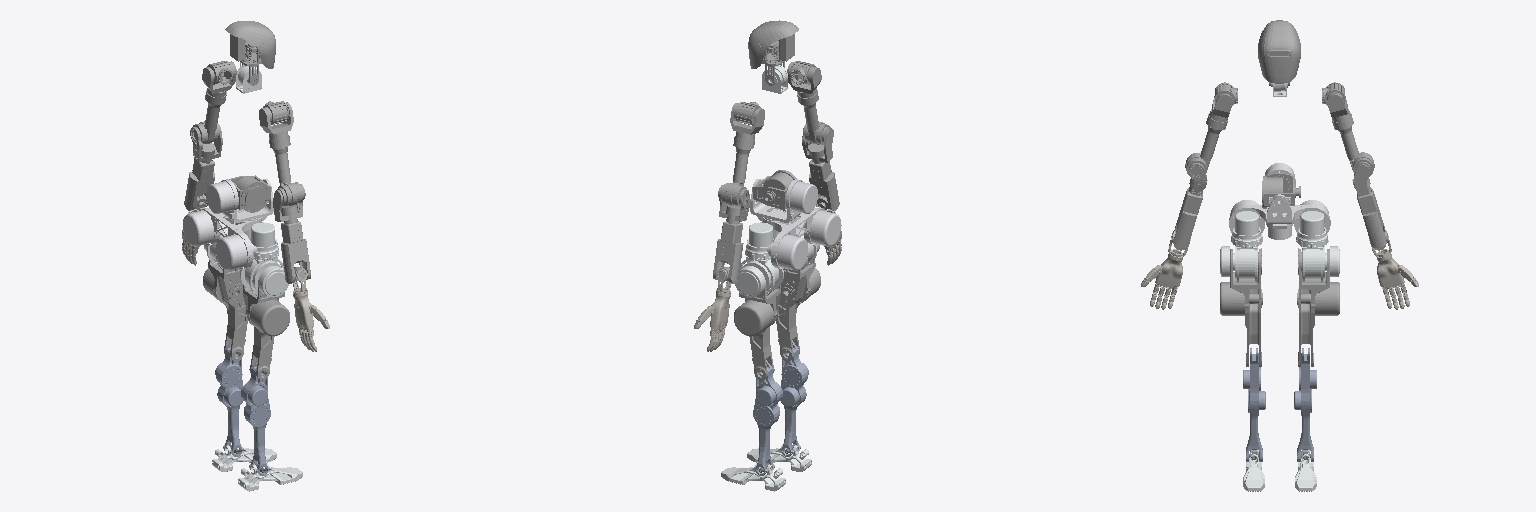
--- What the picture shows (computed from the rendered views, not written in the file) ---
Views: 3 orthographic renders of the robot side by side, from view 1: azimuth 30°, elevation 25°; view 2: azimuth 150°, elevation 25°; view 3: azimuth 270°, elevation 25°.
Robot: loong — 32 links, 31 joints (12 revolute, 19 fixed); root link base_link; default pose: all joints at 0.
Visible links, largest first — view 1: Link_waist_yaw, Link_hip_r_pitch, Link_hip_l_pitch, Link_head_pitch, Link_knee_r_pitch, Link_knee_l_pitch, Link_waist_roll, Link_hip_r_yaw, Link_arm_r_05, Link_arm_r_07, Link_waist_pitch, Link_arm_l_05 (+9 smaller); view 2: Link_waist_yaw, Link_hip_l_pitch, Link_hip_r_pitch, Link_head_pitch, Link_knee_l_pitch, Link_knee_r_pitch, Link_waist_roll, Link_hip_l_yaw, Link_arm_l_07, Link_arm_l_05, Link_waist_pitch, Link_ankle_l_roll (+9 smaller); view 3: Link_head_pitch, Link_hip_r_pitch, Link_hip_l_pitch, Link_waist_yaw, Link_arm_r_07, Link_arm_l_07, Link_knee_r_pitch, Link_knee_l_pitch, Link_hip_l_yaw, Link_hip_r_yaw, Link_arm_r_05, Link_arm_l_05 (+10 smaller).
Boxes of the visible links, box(x1,y1,x2,y2) form: Link_waist_yaw: box(183, 208, 266, 270); Link_hip_r_pitch: box(243, 285, 289, 380); Link_hip_l_pitch: box(203, 258, 247, 361); Link_head_pitch: box(225, 21, 275, 85); Link_knee_r_pitch: box(241, 358, 271, 475); Link_knee_l_pitch: box(215, 339, 245, 456); Link_waist_roll: box(206, 179, 273, 222); Link_hip_r_yaw: box(240, 256, 288, 297); Link_arm_r_05: box(281, 221, 310, 283); Link_arm_r_07: box(293, 269, 329, 351); Link_waist_pitch: box(229, 175, 270, 212); Link_arm_l_05: box(184, 158, 214, 210); Link_waist_yaw: box(757, 208, 841, 270); Link_hip_l_pitch: box(734, 285, 780, 380); Link_hip_r_pitch: box(776, 258, 820, 361); Link_head_pitch: box(748, 20, 798, 85); Link_knee_l_pitch: box(752, 358, 782, 475); Link_knee_r_pitch: box(778, 339, 808, 456); Link_waist_roll: box(750, 179, 817, 222); Link_hip_l_yaw: box(735, 256, 783, 297); Link_arm_l_07: box(694, 269, 730, 351); Link_arm_l_05: box(713, 221, 743, 283); Link_waist_pitch: box(753, 170, 796, 209); Link_ankle_l_roll: box(721, 462, 785, 491); Link_head_pitch: box(1258, 20, 1300, 85); Link_hip_r_pitch: box(1220, 248, 1262, 366); Link_hip_l_pitch: box(1297, 248, 1339, 366); Link_waist_yaw: box(1229, 200, 1330, 239); Link_arm_r_07: box(1141, 231, 1190, 309); Link_arm_l_07: box(1369, 231, 1418, 309); Link_knee_r_pitch: box(1243, 348, 1265, 461); Link_knee_l_pitch: box(1294, 348, 1316, 461); Link_hip_l_yaw: box(1302, 245, 1339, 282); Link_hip_r_yaw: box(1220, 246, 1257, 282); Link_arm_r_05: box(1173, 188, 1202, 250); Link_arm_l_05: box(1357, 188, 1386, 250).
Size in the robot's own frame: 0.3374 by 1.02 by 1.82 metres.
31 mesh visuals loaded from 32 distinct referenced files (31 binary STL); not drawn: 1 (reference not matched to a file when rendering).

URDF robot description (loong):
<?xml version="1.0" encoding="utf-8"?>

<robot name="loong">
  <mujoco>
    <compiler meshdir="package://loong_description/meshes/" balanceinertia="true" discardvisual="false" />
  </mujoco>
  <link name="base_link">
    <inertial>
      <origin xyz="-0.0056641 -0.0013367 0.23829" rpy="0 0 0" />
      <mass value="22.447" />
      <inertia ixx="0.3742" ixy="0" ixz="0" iyy="0.27691" iyz="0" izz="0.22104" />
    </inertial>
    <visual>
      <origin xyz="0 0 0" rpy="0 0 0" />
      <geometry>
        <mesh filename="package://loong_description/meshes/base_link.STL" />
      </geometry>
      <material name="">
        <color rgba="0.75294 0.75294 0.75294 1" />
      </material>
    </visual>
    <collision>
      <origin xyz="0 0 0" rpy="0 0 0" />
      <geometry>
        <mesh filename="package://loong_description/meshes/base_link.STL" />
      </geometry>
    </collision>
  </link>
  <link name="Link_head_yaw">
    <inertial>
      <origin xyz="4.6974E-12 -0.0020814 0.044801" rpy="0 0 0" />
      <mass value="0.84249" />
      <inertia ixx="0.000629" ixy="-1.2848E-14" ixz="1.5461E-10" iyy="0.0007003" iyz="6.5E-06" izz="0.0005541" />
    </inertial>
    <visual>
      <origin xyz="0 0 0" rpy="0 0 0" />
      <geometry>
        <mesh filename="package://loong_description/meshes/Link_head_yaw.STL" />
      </geometry>
      <material name="">
        <color rgba="0.89804 0.91765 0.92941 1" />
      </material>
    </visual>
    <!-- <collision>
      <origin xyz="0 0 0" rpy="0 0 0" />
      <geometry>
        <mesh filename="package://loong_description/meshes/Link_head_yaw.STL" />
      </geometry>
    </collision> -->
  </link>
  <joint name="J_head_yaw" type="fixed">
    <origin xyz="0.009 0 0.4064" rpy="0 0 0" />
    <parent link="base_link" />
    <child link="Link_head_yaw" />
    <axis xyz="0 0 1" />
    <limit lower="-1.5708" upper="1.5708" effort="26" velocity="109.8" />
  </joint>
  <link name="Link_head_pitch">
    <inertial>
      <origin xyz="0.020569 0.033004 0.125" rpy="0 0 0" />
      <mass value="1.3943" />
      <inertia ixx="0.0060059" ixy="-9.4E-06" ixz="0.0007564" iyy="0.00629" iyz="-1.03E-05" izz="0.0048569" />
    </inertial>
    <visual>
      <origin xyz="0 0 0" rpy="0 0 0" />
      <geometry>
        <mesh filename="package://loong_description/meshes/Link_head_pitch.STL" />
      </geometry>
      <material name="">
        <color rgba="0.69804 0.69804 0.69804 1" />
      </material>
    </visual>
    <!-- <collision>
      <origin xyz="0 0 0" rpy="0 0 0" />
      <geometry>
        <mesh filename="package://loong_description/meshes/Link_head_pitch.STL" />
      </geometry>
    </collision> -->
  </link>
  <joint name="J_head_pitch" type="fixed">
    <origin xyz="0 -0.0345999999999997 0.0484999999999999" rpy="0 0 0" />
    <parent link="Link_head_yaw" />
    <child link="Link_head_pitch" />
    <axis xyz="0 -1 0" />
    <limit lower="-0.7854" upper="0.7854" effort="26" velocity="109.8" />
  </joint>
  <link name="Link_arm_r_01">
    <inertial>
      <origin xyz="0.0044946 -0.038294 -1.8744E-06" rpy="0 0 0" />
      <mass value="0.75641" />
      <inertia ixx="0.00058712" ixy="2.9803E-07" ixz="5.8378E-09" iyy="0.00080305" iyz="-3.6648E-08" izz="0.00084299" />
    </inertial>
    <visual>
      <origin xyz="0 0 0" rpy="0 0 0" />
      <geometry>
        <mesh filename="package://loong_description/meshes/Link_arm_r_01.STL" />
      </geometry>
      <material name="">
        <color rgba="0.69804 0.69804 0.69804 1" />
      </material>
    </visual>
    <!-- <collision>
      <origin xyz="0 0 0" rpy="0 0 0" />
      <geometry>
        <mesh filename="package://loong_description/meshes/Link_arm_r_01.STL" />
      </geometry>
    </collision> -->
  </link>
  <joint name="J_arm_r_01" type="fixed">
    <origin xyz="0.004 -0.1616 0.3922" rpy="0 0 0" />
    <parent link="base_link" />
    <child link="Link_arm_r_01" />
    <axis xyz="0 -1 0" />
    <limit lower="-2.96706" upper="2.96706" effort="80" velocity="3.14" />
  </joint>
  <link name="Link_arm_r_02">
    <inertial>
      <origin xyz="0.042 -0.0674307499121858 -6.93889390390723E-18" rpy="0 0 0" />
      <mass value="0.984999996273518" />
      <inertia ixx="0.0017309882399251" ixy="-9.79515256436727E-20" ixz="-3.63988309726277E-19" iyy="0.00115401958000568" iyz="4.42134220053852E-19" izz="0.00226269324370836" />
    </inertial>
    <visual>
      <origin xyz="0 0 0" rpy="0 0 0" />
      <geometry>
        <mesh filename="package://loong_description/meshes/Link_arm_r_02.STL" />
      </geometry>
      <material name="">
        <color rgba="0.698039215686274 0.698039215686274 0.698039215686274 1" />
      </material>
    </visual>
    <!-- <collision>
      <origin xyz="0 0 0" rpy="0 0 0" />
      <geometry>
        <mesh filename="package://loong_description/meshes/Link_arm_r_02.STL" />
      </geometry>
    </collision> -->
  </link>
  <joint name="J_arm_r_02" type="fixed">
    <origin xyz="-0.042 -0.041 0" rpy="1.3 0 0" />
    <parent link="Link_arm_r_01" />
    <child link="Link_arm_r_02" />
    <axis xyz="-1 0 0" />
    <limit lower="-1.83260" upper="1.83260" effort="80" velocity="3.14" />
  </joint>
  <link name="Link_arm_r_03">
    <inertial>
      <origin xyz="-0.00141357502419955 -0.164662742175383 0.0207578924800774" rpy="0 0 0" />
      <mass value="0.958999855228924" />
      <inertia ixx="0.00206438134078715" ixy="1.82014067823509E-05" ixz="-5.1283136963991E-06" iyy="0.00080535412926664" iyz="-0.000255265992194607" izz="0.00205099914609259" />
    </inertial>
    <visual>
      <origin xyz="0 0 0" rpy="0 0 0" />
      <geometry>
        <mesh filename="package://loong_description/meshes/Link_arm_r_03.STL" />
      </geometry>
      <material name="">
        <color rgba="0.698039215686274 0.698039215686274 0.698039215686274 1" />
      </material>
    </visual>
    <!-- <collision>
      <origin xyz="0 0 0" rpy="0 0 0" />
      <geometry>
        <mesh filename="package://loong_description/meshes/Link_arm_r_03.STL" />
      </geometry>
    </collision> -->
  </link>
  <joint name="J_arm_r_03" type="fixed">
    <origin xyz="0.042 -0.1226 0" rpy="0 0 0" />
    <parent link="Link_arm_r_02" />
    <child link="Link_arm_r_03" />
    <axis xyz="0 -1 0" />
    <limit lower="-2.96706" upper="2.96706" effort="48" velocity="3.14" />
  </joint>
  <link name="Link_arm_r_04">
    <inertial>
      <origin xyz="-0.038727 -0.060767 -0.021003" rpy="0 0 0" />
      <mass value="0.6" />
      <inertia ixx="0.00070398" ixy="-2.023E-05" ixz="-1.1263E-05" iyy="0.00068085" iyz="0.00010585" izz="0.0010653" />
    </inertial>
    <visual>
      <origin xyz="0 0 0" rpy="0 0 0" />
      <geometry>
        <mesh filename="package://loong_description/meshes/Link_arm_r_04.STL" />
      </geometry>
      <material name="">
        <color rgba="0.69804 0.69804 0.69804 1" />
      </material>
    </visual>
    <!-- <collision>
      <origin xyz="0 0 0" rpy="0 0 0" />
      <geometry>
        <mesh filename="package://loong_description/meshes/Link_arm_r_04.STL" />
      </geometry>
    </collision> -->
  </link>
  <joint name="J_arm_r_04" type="fixed">
    <origin xyz="0.0353 -0.1774 0.024" rpy="0 0 0" />
    <parent link="Link_arm_r_03" />
    <child link="Link_arm_r_04" />
    <axis xyz="-1 0 0" />
    <limit lower="0" upper="2.96706" effort="48" velocity="3.14" />
  </joint>
  <link name="Link_arm_r_05">
    <inertial>
      <origin xyz="3.2712E-05 -0.068658 -0.00011178" rpy="0 0 0" />
      <mass value="0.68976" />
      <inertia ixx="0.0025225" ixy="4E-07" ixz="-8E-07" iyy="0.0004487" iyz="-3.1E-06" izz="0.0024111" />
    </inertial>
    <visual>
      <origin xyz="0 0 0" rpy="0 0 0" />
      <geometry>
        <mesh filename="package://loong_description/meshes/Link_arm_r_05.STL" />
      </geometry>
      <material name="">
        <color rgba="0.69804 0.69804 0.69804 1" />
      </material>
    </visual>
    <!-- <collision>
      <origin xyz="0 0 0" rpy="0 0 0" />
      <geometry>
        <mesh filename="package://loong_description/meshes/Link_arm_r_05.STL" />
      </geometry>
    </collision> -->
  </link>
  <joint name="J_arm_r_05" type="fixed">
    <origin xyz="-0.0353 -0.1035 -0.024" rpy="0 0 0" />
    <parent link="Link_arm_r_04" />
    <child link="Link_arm_r_05" />
    <axis xyz="0 -1 0" />
    <limit lower="-2.96706" upper="2.96706" effort="12.4" velocity="6.28" />
  </joint>
  <link name="Link_arm_r_06">
    <inertial>
      <origin xyz="0.026078 -8.9588E-07 0.0016637" rpy="0 0 0" />
      <mass value="0.28" />
      <inertia ixx="0.0001456" ixy="7.7026E-10" ixz="2.1456E-07" iyy="0.00015693" iyz="2.4102E-09" izz="0.00010498" />
    </inertial>
    <visual>
      <origin xyz="0 0 0" rpy="0 0 0" />
      <geometry>
        <mesh filename="package://loong_description/meshes/Link_arm_r_06.STL" />
      </geometry>
      <material name="">
        <color rgba="0.69804 0.69804 0.69804 1" />
      </material>
    </visual>
    <!-- <collision>
      <origin xyz="0 0 0" rpy="0 0 0" />
      <geometry>
        <mesh filename="package://loong_description/meshes/Link_arm_r_06.STL" />
      </geometry>
    </collision> -->
  </link>
  <joint name="J_arm_r_06" type="fixed">
    <origin xyz="-0.0265 -0.1965 0" rpy="0 0 0" />
    <parent link="Link_arm_r_05" />
    <child link="Link_arm_r_06" />
    <axis xyz="1 0 0" />
    <limit lower="-1.8326" upper="1.8326" effort="12.4" velocity="6.28" />
  </joint>
  <link name="Link_arm_r_07">
    <inertial>
      <origin xyz="-0.007859 -0.15817 -0.027736" rpy="0 0 0" />
      <mass value="0.61354" />
      <inertia ixx="0.0025969" ixy="-4.65E-05" ixz="0.0001089" iyy="0.0007306" iyz="1.47E-05" izz="0.0030104" />
    </inertial>
    <visual>
      <origin xyz="0 0 0" rpy="0 0 0" />
      <geometry>
        <mesh filename="package://loong_description/meshes/Link_arm_r_07.STL" />
      </geometry>
      <material name="">
        <color rgba="0.77647 0.75686 0.73725 1" />
      </material>
    </visual>
    <!-- <collision>
      <origin xyz="0 0 0" rpy="0 0 0" />
      <geometry>
        <mesh filename="package://loong_description/meshes/Link_arm_r_07.STL" />
      </geometry>
    </collision> -->
  </link>
  <joint name="J_arm_r_07" type="fixed">
    <origin xyz="0.0265 0 0.0318" rpy="0 0 0" />
    <parent link="Link_arm_r_06" />
    <child link="Link_arm_r_07" />
    <axis xyz="0 0 1" />
    <limit lower="-1.04720" upper="1.04720" effort="12.4" velocity="6.28" />
  </joint>
  <link name="Link_arm_l_01">
    <inertial>
      <origin xyz="-0.00449464987882542 0.0382942125981936 -1.874402432607E-06" rpy="0 0 0" />
      <mass value="0.756406339732892" />
      <inertia ixx="0.000587115683146372" ixy="2.98026052651538E-07" ixz="-5.83781087215966E-09" iyy="0.000803052813361661" iyz="3.66476835396106E-08" izz="0.000842985653484675" />
    </inertial>
    <visual>
      <origin xyz="0 0 0" rpy="0 0 0" />
      <geometry>
        <mesh filename="package://loong_description/meshes/Link_arm_l_01.STL" />
      </geometry>
      <material name="">
        <color rgba="0.698039215686274 0.698039215686274 0.698039215686274 1" />
      </material>
    </visual>
    <!-- <collision>
      <origin xyz="0 0 0" rpy="0 0 0" />
      <geometry>
        <mesh filename="package://loong_description/meshes/Link_arm_l_01.STL" />
      </geometry>
    </collision> -->
  </link>
  <joint name="J_arm_l_01" type="fixed">
    <origin xyz="0.004 0.1616 0.3922" rpy="0 0 0" />
    <parent link="base_link" />
    <child link="Link_arm_l_01" />
    <axis xyz="0 1 0" />
    <limit lower="-2.96706" upper="2.96706" effort="80" velocity="3.14" />
  </joint>
  <link name="Link_arm_l_02">
    <inertial>
      <origin xyz="-0.042 0.0674307499121858 1.38777878078145E-17" rpy="0 0 0" />
      <mass value="0.984999996273518" />
      <inertia ixx="0.0017309882399251" ixy="-1.48322871384691E-19" ixz="-1.94588987195478E-19" iyy="0.00115401958000568" iyz="-6.15989345249147E-19" izz="0.00226269324370836" />
    </inertial>
    <visual>
      <origin xyz="0 0 0" rpy="0 0 0" />
      <geometry>
        <mesh filename="package://loong_description/meshes/Link_arm_l_02.STL" />
      </geometry>
      <material name="">
        <color rgba="0.698039215686274 0.698039215686274 0.698039215686274 1" />
      </material>
    </visual>
    <!-- <collision>
      <origin xyz="0 0 0" rpy="0 0 0" />
      <geometry>
        <mesh filename="package://loong_description/meshes/Link_arm_l_02.STL" />
      </geometry>
    </collision> -->
  </link>
  <joint name="J_arm_l_02" type="fixed">
    <origin xyz="0.042 0.041 0" rpy="-1.3 0 0" />
    <parent link="Link_arm_l_01" />
    <child link="Link_arm_l_02" />
    <axis xyz="-1 0 0" />
    <limit lower="-1.83260" upper="1.83260" effort="80" velocity="3.14" />
  </joint>
  <link name="Link_arm_l_03">
    <inertial>
      <origin xyz="0.00141357502419956 0.164662742175383 0.0207578924800774" rpy="0 0 0" />
      <mass value="0.958999855228925" />
      <inertia ixx="0.00206438134078715" ixy="1.82014067823508E-05" ixz="5.12831369639908E-06" iyy="0.000805354129266641" iyz="0.000255265992194607" izz="0.00205099914609259" />
    </inertial>
    <visual>
      <origin xyz="0 0 0" rpy="0 0 0" />
      <geometry>
        <mesh filename="package://loong_description/meshes/Link_arm_l_03.STL" />
      </geometry>
      <material name="">
        <color rgba="0.698039215686274 0.698039215686274 0.698039215686274 1" />
      </material>
    </visual>
    <!-- <collision>
      <origin xyz="0 0 0" rpy="0 0 0" />
      <geometry>
        <mesh filename="package://loong_description/meshes/Link_arm_l_03.STL" />
      </geometry>
    </collision> -->
  </link>
  <joint name="J_arm_l_03" type="fixed">
    <origin xyz="-0.042 0.1226 0" rpy="0 0 0" />
    <parent link="Link_arm_l_02" />
    <child link="Link_arm_l_03" />
    <axis xyz="0 1 0" />
    <limit lower="-2.96706" upper="2.96706" effort="48" velocity="3.14" />
  </joint>
  <link name="Link_arm_l_04">
    <inertial>
      <origin xyz="0.038726985904266 0.0607672244593032 -0.0210032450980798" rpy="0 0 0" />
      <mass value="0.60000012303258" />
      <inertia ixx="0.000703976141425558" ixy="-2.02301178076816E-05" ixz="1.12633779930363E-05" iyy="0.000680850033983237" iyz="-0.000105852227353173" izz="0.00106526266740194" />
    </inertial>
    <visual>
      <origin xyz="0 0 0" rpy="0 0 0" />
      <geometry>
        <mesh filename="package://loong_description/meshes/Link_arm_l_04.STL" />
      </geometry>
      <material name="">
        <color rgba="0.698039215686274 0.698039215686274 0.698039215686274 1" />
      </material>
    </visual>
    <!-- <collision>
      <origin xyz="0 0 0" rpy="0 0 0" />
      <geometry>
        <mesh filename="package://loong_description/meshes/Link_arm_l_04.STL" />
      </geometry>
    </collision> -->
  </link>
  <joint name="J_arm_l_04" type="fixed">
    <origin xyz="-0.0353 0.1774 0.024" rpy="0 0 0" />
    <parent link="Link_arm_l_03" />
    <child link="Link_arm_l_04" />
    <axis xyz="1 0 0" />
    <limit lower="0" upper="2.96706" effort="48" velocity="3.14" />
  </joint>
  <link name="Link_arm_l_05">
    <inertial>
      <origin xyz="-3.2712E-05 0.068658 -0.00011178" rpy="0 0 0" />
      <mass value="0.68976" />
      <inertia ixx="0.0025225" ixy="4E-07" ixz="8E-07" iyy="0.0004487" iyz="3.1E-06" izz="0.0024111" />
    </inertial>
    <visual>
      <origin xyz="0 0 0" rpy="0 0 0" />
      <geometry>
        <mesh filename="package://loong_description/meshes/Link_arm_l_05.STL" />
      </geometry>
      <material name="">
        <color rgba="0.69804 0.69804 0.69804 1" />
      </material>
    </visual>
    <!-- <collision>
      <origin xyz="0 0 0" rpy="0 0 0" />
      <geometry>
        <mesh filename="package://loong_description/meshes/Link_arm_l_05.STL" />
      </geometry>
    </collision> -->
  </link>
  <joint name="J_arm_l_05" type="fixed">
    <origin xyz="0.0353 0.1035 -0.024" rpy="0 0 0" />
    <parent link="Link_arm_l_04" />
    <child link="Link_arm_l_05" />
    <axis xyz="0 1 0" />
    <limit lower="-2.96706" upper="2.96706" effort="12.4" velocity="6.28" />
  </joint>
  <link name="Link_arm_l_06">
    <inertial>
      <origin xyz="-0.0260776548825596 8.95877202866657E-07 0.00166373234012217" rpy="0 0 0" />
      <mass value="0.280000012776158" />
      <inertia ixx="0.000145596926990102" ixy="7.70263046256849E-10" ixz="-2.14557176368931E-07" iyy="0.000156926535065694" iyz="-2.41022657678511E-09" izz="0.000104981940665913" />
    </inertial>
    <visual>
      <origin xyz="0 0 0" rpy="0 0 0" />
      <geometry>
        <mesh filename="package://loong_description/meshes/Link_arm_l_06.STL" />
      </geometry>
      <material name="">
        <color rgba="0.698039215686274 0.698039215686274 0.698039215686274 1" />
      </material>
    </visual>
    <!-- <collision>
      <origin xyz="0 0 0" rpy="0 0 0" />
      <geometry>
        <mesh filename="package://loong_description/meshes/Link_arm_l_06.STL" />
      </geometry>
    </collision> -->
  </link>
  <joint name="J_arm_l_06" type="fixed">
    <origin xyz="0.0265 0.1965 0" rpy="0 0 0" />
    <parent link="Link_arm_l_05" />
    <child link="Link_arm_l_06" />
    <axis xyz="-1 0 0" />
    <limit lower="-1.8326" upper="1.8326" effort="12.4" velocity="6.28" />
  </joint>
  <link name="Link_arm_l_07">
    <inertial>
      <origin xyz="-0.0077872 0.15705 -0.027733" rpy="0 0 0" />
      <mass value="0.61354" />
      <inertia ixx="0.0025964" ixy="4.66E-05" ixz="0.0001089" iyy="0.0007306" iyz="-1.47E-05" izz="0.00301" />
    </inertial>
    <visual>
      <origin xyz="0 0 0" rpy="0 0 0" />
      <geometry>
        <mesh filename="package://loong_description/meshes/Link_arm_l_07.STL" />
      </geometry>
      <material name="">
        <color rgba="0.77647 0.75686 0.73725 1" />
      </material>
    </visual>
    <!-- <collision>
      <origin xyz="0 0 0" rpy="0 0 0" />
      <geometry>
        <mesh filename="package://loong_description/meshes/Link_arm_l_07.STL" />
      </geometry>
    </collision> -->
  </link>
  <joint name="J_arm_l_07" type="fixed">
    <origin xyz="-0.0265 0 0.0318" rpy="0 0 0" />
    <parent link="Link_arm_l_06" />
    <child link="Link_arm_l_07" />
    <axis xyz="0 0 1" />
    <limit lower="-1.04720" upper="1.04720" effort="12.4" velocity="6.28" />
  </joint>
  <link name="Link_waist_pitch">
    <inertial>
      <origin xyz="-0.00073496 0.049925 -2.9695E-05" rpy="0 0 0" />
      <mass value="2.6964" />
      <inertia ixx="0.0051971" ixy="4.37E-05" ixz="-3E-07" iyy="0.0047413" iyz="-6E-06" izz="0.0061906" />
    </inertial>
    <visual>
      <origin xyz="0 0 0" rpy="0 0 0" />
      <geometry>
        <mesh filename="package://loong_description/meshes/Link_waist_pitch.STL" />
      </geometry>
      <material name="">
        <color rgba="0.69804 0.69804 0.69804 1" />
      </material>
    </visual>
    <!-- <collision>
      <origin xyz="0 0 0" rpy="0 0 0" />
      <geometry>
        <mesh filename="package://loong_description/meshes/Link_waist_pitch.STL" />
      </geometry>
    </collision> -->
  </link>
  <joint name="J_waist_pitch" type="fixed">
    <origin xyz="0 -0.0655 0" rpy="0 0 0" />
    <parent link="base_link" />
    <child link="Link_waist_pitch" />
    <axis xyz="0 -1 0" />
    <limit lower="-0.29671" upper="0.78540" effort="315" velocity="3.72" />
  </joint>
  <link name="Link_waist_roll">
    <inertial>
      <origin xyz="-0.0037424 -0.001 -0.016856" rpy="0 0 0" />
      <mass value="2.9806" />
      <inertia ixx="0.0071327" ixy="0" ixz="0.00358" iyy="0.018825" iyz="0" izz="0.016056" />
    </inertial>
    <visual>
      <origin xyz="0 0 0" rpy="0 0 0" />
      <geometry>
        <mesh filename="package://loong_description/meshes/Link_waist_roll.STL" />
      </geometry>
      <material name="">
        <color rgba="0.8902 0.8902 0.91373 1" />
      </material>
    </visual>
    <!-- <collision>
      <origin xyz="0 0 0" rpy="0 0 0" />
      <geometry>
        <mesh filename="package://loong_description/meshes/Link_waist_roll.STL" />
      </geometry>
    </collision> -->
  </link>
  <joint name="J_waist_roll" type="fixed">
    <origin xyz="-0.064 0.0655 0" rpy="0 0 0" />
    <parent link="Link_waist_pitch" />
    <child link="Link_waist_roll" />
    <axis xyz="1 0 0" />
    <limit lower="-0.69813" upper="0.69813" effort="315" velocity="3.72" />
  </joint>
  <link name="Link_waist_yaw">
    <inertial>
      <origin xyz="-0.096172 -0.001 -0.057836" rpy="0 0 0" />
      <mass value="7.3588" />
      <inertia ixx="0.091635" ixy="0" ixz="-0.0058036" iyy="0.032766" iyz="0" izz="0.10764" />
    </inertial>
    <visual>
      <origin xyz="0 0 0" rpy="0 0 0" />
      <geometry>
        <mesh filename="package://loong_description/meshes/Link_waist_yaw.STL" />
      </geometry>
      <material name="">
        <color rgba="0.8902 0.8902 0.91373 1" />
      </material>
    </visual>
    <!-- <collision>
      <origin xyz="0 0 0" rpy="0 0 0" />
      <geometry>
        <mesh filename="package://loong_description/meshes/Link_waist_yaw.STL" />
      </geometry>
    </collision> -->
  </link>
  <joint name="J_waist_yaw" type="fixed">
    <origin xyz="0.0675 0 -0.098" rpy="0 0 0" />
    <parent link="Link_waist_roll" />
    <child link="Link_waist_yaw" />
    <axis xyz="0 0 1" />
    <limit lower="-0.78540" upper="0.78540" effort="121" velocity="5.92" />
  </joint>
  <link name="Link_hip_r_roll">
    <inertial>
      <origin xyz="0.075725 -0.0010616 0.016591" rpy="0 0 0" />
      <mass value="2.4334" />
      <inertia ixx="0.0036961" ixy="9E-07" ixz="-0.0001644" iyy="0.0045067" iyz="-6.3E-06" izz="0.0039063" />
    </inertial>
    <visual>
      <origin xyz="0 0 0" rpy="0 0 0" />
      <geometry>
        <mesh filename="package://loong_description/meshes/Link_hip_r_roll.STL" />
      </geometry>
      <material name="">
        <color rgba="0.89804 0.91765 0.92941 1" />
      </material>
    </visual>
    <!-- <collision>
      <origin xyz="0 0 0" rpy="0 0 0" />
      <geometry>
        <mesh filename="package://loong_description/meshes/Link_hip_r_roll.STL" />
      </geometry>
    </collision> -->
  </link>
  <joint name="J_hip_r_roll" type="revolute">
    <origin xyz="-0.0875 -0.12 -0.069" rpy="0 0 0" />
    <parent link="Link_waist_yaw" />
    <child link="Link_hip_r_roll" />
    <axis xyz="1 0 0" />
    <limit lower="-0.17453" upper="0.43633" effort="320" velocity="20.94" />
  </joint>
  <link name="Link_hip_r_yaw">
    <inertial>
      <origin xyz="-3.0911E-08 -0.0071356 -0.10063" rpy="0 0 0" />
      <mass value="3.4303" />
      <inertia ixx="0.0077365" ixy="0" ixz="0" iyy="0.0080807" iyz="-0.0001167" izz="0.006641" />
    </inertial>
    <visual>
      <origin xyz="0 0 0" rpy="0 0 0" />
      <geometry>
        <mesh filename="package://loong_description/meshes/Link_hip_r_yaw.STL" />
      </geometry>
      <material name="">
        <color rgba="0.89804 0.91765 0.92941 1" />
      </material>
    </visual>
    <!-- <collision>
      <origin xyz="0 0 0" rpy="0 0 0" />
      <geometry>
        <mesh filename="package://loong_description/meshes/Link_hip_r_yaw.STL" />
      </geometry>
    </collision> -->
  </link>
  <joint name="J_hip_r_yaw" type="revolute">
    <origin xyz="0.08225 0 -0.01" rpy="0 0 0" />
    <parent link="Link_hip_r_roll" />
    <child link="Link_hip_r_yaw" />
    <axis xyz="0 0 1" />
    <limit lower="-0.69813" upper="0.69813" effort="160" velocity="19.63" />
  </joint>
  <link name="Link_hip_r_pitch">
    <inertial>
      <origin xyz="0.0010856 -0.05497 -0.14535" rpy="0 0 0" />
      <mass value="5.2378" />
      <inertia ixx="0.043457" ixy="-0.0002478" ixz="0.0007626" iyy="0.037801" iyz="0.0007431" izz="0.015183" />
    </inertial>
    <visual>
      <origin xyz="0 0 0" rpy="0 0 0" />
      <geometry>
        <mesh filename="package://loong_description/meshes/Link_hip_r_pitch.STL" />
      </geometry>
      <material name="">
        <color rgba="0.69804 0.69804 0.69804 1" />
      </material>
    </visual>
    <!-- <collision>
      <origin xyz="0 0 0" rpy="0 0 0" />
      <geometry>
        <mesh filename="package://loong_description/meshes/Link_hip_r_pitch.STL" />
      </geometry>
    </collision> -->
  </link>
  <joint name="J_hip_r_pitch" type="revolute">
    <origin xyz="0 0.03675 -0.1055" rpy="0 0 0" />
    <parent link="Link_hip_r_yaw" />
    <child link="Link_hip_r_pitch" />
    <axis xyz="0 -1 0" />
    <limit lower="-0.78540" upper="1.83260" effort="396" velocity="19.16" />
  </joint>
  <link name="Link_knee_r_pitch">
    <inertial>
      <origin xyz="-0.0096425 2.9338E-06 -0.13601" rpy="0 0 0" />
      <mass value="2.9775" />
      <inertia ixx="0.02386" ixy="-6.76E-05" ixz="0.0004656" iyy="0.024184" iyz="0.0005481" izz="0.0023083" />
    </inertial>
    <visual>
      <origin xyz="0 0 0" rpy="0 0 0" />
      <geometry>
        <mesh filename="package://loong_description/meshes/Link_knee_r_pitch.STL" />
      </geometry>
      <material name="">
        <color rgba="0.66667 0.69804 0.76863 1" />
      </material>
    </visual>
    <!-- <collision>
      <origin xyz="0 0 0" rpy="0 0 0" />
      <geometry>
        <mesh filename="package://loong_description/meshes/Link_knee_r_pitch.STL" />
      </geometry>
    </collision> -->
    <collision>
      <origin rpy="0 0 0" xyz="0 0 -0.2"/>
      <geometry>
        <cylinder radius="0.05" length="0.3"/>
      </geometry>
    </collision>
  </link>
  <joint name="J_knee_r_pitch" type="revolute">
    <origin xyz="0 -0.01125 -0.4" rpy="0 0 0" />
    <parent link="Link_hip_r_pitch" />
    <child link="Link_knee_r_pitch" />
    <axis xyz="0 -1 0" />
    <limit lower="-2.35619" upper="0.08727" effort="396" velocity="19.16" />
  </joint>
  <link name="Link_ankle_r_pitch">
    <inertial>
      <origin xyz="-6.1835E-12 -1.2655E-07 -2.4682E-08" rpy="0 0 0" />
      <mass value="0.10145" />
      <inertia ixx="2.7175E-05" ixy="-1.0023E-14" ixz="8.1752E-13" iyy="6.1118E-06" iyz="-2.6285E-11" izz="2.6565E-05" />
    </inertial>
    <visual>
      <origin xyz="0 0 0" rpy="0 0 0" />
      <geometry>
        <mesh filename="package://loong_description/meshes/Link_ankle_r_pitch.STL" />
      </geometry>
      <material name="">
        <color rgba="0.52941 0.54902 0.54902 1" />
      </material>
    </visual>
    <!-- <collision>
      <origin xyz="0 0 0" rpy="0 0 0" />
      <geometry>
        <mesh filename="package://loong_description/meshes/Link_ankle_r_pitch.STL" />
      </geometry>
    </collision> -->
  </link>
  <joint name="J_ankle_r_pitch" type="revolute">
    <origin xyz="0 0 -0.387" rpy="0 0 0" />
    <parent link="Link_knee_r_pitch" />
    <child link="Link_ankle_r_pitch" />
    <axis xyz="0 -1 0" />
    <limit lower="-0.43633" upper="0.61087" effort="58.5" velocity="48.8" />
  </joint>
  <link name="Link_ankle_r_roll">
    <inertial>
      <origin xyz="0.041078 -8.9152E-08 -0.043909" rpy="0 0 0" />
      <mass value="0.75229" />
      <inertia ixx="0.0004393" ixy="0" ixz="0.000269" iyy="0.0036465" iyz="0" izz="0.0036369" />
    </inertial>
    <visual>
      <origin xyz="0 0 0" rpy="0 0 0" />
      <geometry>
        <mesh filename="package://loong_description/meshes/Link_ankle_r_roll.STL" />
      </geometry>
      <material name="">
        <color rgba="0.89804 0.91765 0.92941 1" />
      </material>
    </visual>
    <!-- <collision>
      <origin xyz="0 0 0" rpy="0 0 0" />
      <geometry>
        <mesh filename="package://loong_description/meshes/Link_ankle_r_roll.STL" />
      </geometry>
    </collision> -->
    <collision>
      <origin rpy="0.00000000 1.5708 0.00000000" xyz="0.0485000 -0.04000000 -0.06300000"/>
      <geometry>
        <cylinder radius="0.00500000" length="0.2500000"/>
      </geometry>
    </collision>
    <collision>
      <origin rpy="0.00000000 1.5708 0.00000000" xyz="0.0485000 0.04000000 -0.06300000"/>
      <geometry>
        <!-- <sphere radius="0.02" /> -->
        <cylinder radius="0.00500000" length="0.2500000"/>
      </geometry>
    </collision>
  </link>
  <joint name="J_ankle_r_roll" type="revolute">
    <origin xyz="0 0 0" rpy="0 0 0" />
    <parent link="Link_ankle_r_pitch" />
    <child link="Link_ankle_r_roll" />
    <axis xyz="1 0 0" />
    <limit lower="-0.43633" upper="0.43633" effort="58.5" velocity="48.8" />
  </joint>
  <link name="Link_hip_l_roll">
    <inertial>
      <origin xyz="0.075725 -0.00093843 0.016591" rpy="0 0 0" />
      <mass value="2.4334" />
      <inertia ixx="0.0034464" ixy="-9E-07" ixz="-0.0001904" iyy="0.0042569" iyz="6.6E-06" izz="0.0039063" />
    </inertial>
    <visual>
      <origin xyz="0 0 0" rpy="0 0 0" />
      <geometry>
        <mesh filename="package://loong_description/meshes/Link_hip_l_roll.STL" />
      </geometry>
      <material name="">
        <color rgba="0.89804 0.91765 0.92941 1" />
      </material>
    </visual>
    <!-- <collision>
      <origin xyz="0 0 0" rpy="0 0 0" />
      <geometry>
        <mesh filename="package://loong_description/meshes/Link_hip_l_roll.STL" />
      </geometry>
    </collision> -->
  </link>
  <joint name="J_hip_l_roll" type="revolute">
    <origin xyz="-0.0875 0.12 -0.069" rpy="0 0 0" />
    <parent link="Link_waist_yaw" />
    <child link="Link_hip_l_roll" />
    <axis xyz="1 0 0" />
    <limit lower="-0.17453" upper="0.43633" effort="320" velocity="20.94" />
  </joint>
  <link name="Link_hip_l_yaw">
    <inertial>
      <origin xyz="-3.1716E-08 0.0071358 -0.10063" rpy="0 0 0" />
      <mass value="3.4304" />
      <inertia ixx="0.0077365" ixy="0" ixz="0" iyy="0.0080807" iyz="0.0001167" izz="0.0066409" />
    </inertial>
    <visual>
      <origin xyz="0 0 0" rpy="0 0 0" />
      <geometry>
        <mesh filename="package://loong_description/meshes/Link_hip_l_yaw.STL" />
      </geometry>
      <material name="">
        <color rgba="0.89804 0.91765 0.92941 1" />
      </material>
    </visual>
    <!-- <collision>
      <origin xyz="0 0 0" rpy="0 0 0" />
      <geometry>
        <mesh filename="package://loong_description/meshes/Link_hip_l_yaw.STL" />
      </geometry>
    </collision> -->
  </link>
  <joint name="J_hip_l_yaw" type="revolute">
    <origin xyz="0.08225 0 -0.01" rpy="0 0 0" />
    <parent link="Link_hip_l_roll" />
    <child link="Link_hip_l_yaw" />
    <axis xyz="0 0 1" />
    <limit lower="-0.69813" upper="0.69813" effort="160" velocity="19.63" />
  </joint>
  <link name="Link_hip_l_pitch">
    <inertial>
      <origin xyz="0.0010856 0.05497 -0.14535" rpy="0 0 0" />
      <mass value="5.2378" />
      <inertia ixx="0.043457" ixy="0.0002479" ixz="0.0007626" iyy="0.037801" iyz="-0.0007431" izz="0.015183" />
    </inertial>
    <visual>
      <origin xyz="0 0 0" rpy="0 0 0" />
      <geometry>
        <mesh filename="package://loong_description/meshes/Link_hip_l_pitch.STL" />
      </geometry>
      <material name="">
        <color rgba="0.69804 0.69804 0.69804 1" />
      </material>
    </visual>
    <!-- <collision>
      <origin xyz="0 0 0" rpy="0 0 0" />
      <geometry>
        <mesh filename="package://loong_description/meshes/Link_hip_l_pitch.STL" />
      </geometry>
    </collision> -->
  </link>
  <joint name="J_hip_l_pitch" type="revolute">
    <origin xyz="0 -0.03675 -0.1055" rpy="0 0 0" />
    <parent link="Link_hip_l_yaw" />
    <child link="Link_hip_l_pitch" />
    <axis xyz="0 -1 0" />
    <limit lower="-0.78540" upper="1.83260" effort="396" velocity="19.16" />
  </joint>
  <link name="Link_knee_l_pitch">
    <inertial>
      <origin xyz="-0.0096425 -2.8684E-06 -0.13601" rpy="0 0 0" />
      <mass value="2.9775" />
      <inertia ixx="0.023859" ixy="6.76E-05" ixz="0.0004656" iyy="0.024183" iyz="-0.000548" izz="0.0023083" />
    </inertial>
    <visual>
      <origin xyz="0 0 0" rpy="0 0 0" />
      <geometry>
        <mesh filename="package://loong_description/meshes/Link_knee_l_pitch.STL" />
      </geometry>
      <material name="">
        <color rgba="0.66667 0.69804 0.76863 1" />
      </material>
    </visual>
    <!-- <collision>
      <origin xyz="0 0 0" rpy="0 0 0" />
      <geometry>
        <mesh filename="package://loong_description/meshes/Link_knee_l_pitch.STL" />
      </geometry>
    </collision> -->
    <collision>
      <origin rpy="0 0 0" xyz="0 0 -0.2"/>
      <geometry>
        <cylinder radius="0.05" length="0.3"/>
      </geometry>
    </collision>
  </link>
  <joint name="J_knee_l_pitch" type="revolute">
    <origin xyz="0 0.01125 -0.4" rpy="0 0 0" />
    <parent link="Link_hip_l_pitch" />
    <child link="Link_knee_l_pitch" />
    <axis xyz="0 -1 0" />
    <limit lower="-2.35619" upper="0.08727" effort="396" velocity="19.16" />
  </joint>
  <link name="Link_ankle_l_pitch">
    <inertial>
      <origin xyz="-6.1835E-12 1.2655E-07 6.7022E-08" rpy="0 0 0" />
      <mass value="0.10145" />
      <inertia ixx="2.7175E-05" ixy="1.0023E-14" ixz="8.1752E-13" iyy="6.1118E-06" iyz="2.6285E-11" izz="2.6565E-05" />
    </inertial>
    <visual>
      <origin xyz="0 0 0" rpy="0 0 0" />
      <geometry>
        <mesh filename="package://loong_description/meshes/Link_ankle_l_pitch.STL" />
      </geometry>
      <material name="">
        <color rgba="0.52941 0.54902 0.54902 1" />
      </material>
    </visual>
    <!-- <collision>
      <origin xyz="0 0 0" rpy="0 0 0" />
      <geometry>
        <mesh filename="package://loong_description/meshes/Link_ankle_l_pitch.STL" />
      </geometry>
    </collision> -->
  </link>
  <joint name="J_ankle_l_pitch" type="revolute">
    <origin xyz="0 0 -0.387" rpy="0 0 0" />
    <parent link="Link_knee_l_pitch" />
    <child link="Link_ankle_l_pitch" />
    <axis xyz="0 -1 0" />
    <limit lower="-0.43644" upper="0.61087" effort="58.5" velocity="48.8" />
  </joint>
  <link name="Link_ankle_l_roll">
    <inertial>
      <origin xyz="0.041077 -2.9318E-08 -0.043909" rpy="0 0 0" />
      <mass value="0.7522882" />
      <inertia ixx="0.0004393" ixy="0" ixz="0.000269" iyy="0.0036465" iyz="0" izz="0.0036369" />
    </inertial>
    <visual>
      <origin xyz="0 0 0" rpy="0 0 0" />
      <geometry>
        <mesh filename="package://loong_description/meshes/Link_ankle_l_roll.STL" />
      </geometry>
      <material name="">
        <color rgba="0.89804 0.91765 0.92941 1" />
      </material>
    </visual>
    <!-- <collision>
      <origin xyz="0 0 0" rpy="0 0 0" />
      <geometry>
        <mesh filename="package://loong_description/meshes/Link_ankle_l_roll.STL" />
      </geometry>
    </collision> -->

    <collision>
      <origin rpy="0.00000000 1.5708 0.00000000" xyz="0.0485000 -0.04000000 -0.06300000"/>
      <geometry>
        <cylinder radius="0.00500000" length="0.2500000"/>
      </geometry>
    </collision>
    <collision>
      <origin rpy="0.00000000 1.5708 0.00000000" xyz="0.0485000 0.04000000 -0.06300000"/>
      <geometry>
        <!-- <sphere radius="0.02" /> -->
        <cylinder radius="0.00500000" length="0.2500000"/>
      </geometry>
    </collision>
  </link>
  <joint name="J_ankle_l_roll" type="revolute">
    <origin xyz="0 0 0" rpy="0 0 0" />
    <parent link="Link_ankle_l_pitch" />
    <child link="Link_ankle_l_roll" />
    <axis xyz="1 0 0" />
    <limit lower="-0.43633" upper="0.43633" effort="58.5" velocity="48.8" />
  </joint>
</robot>
